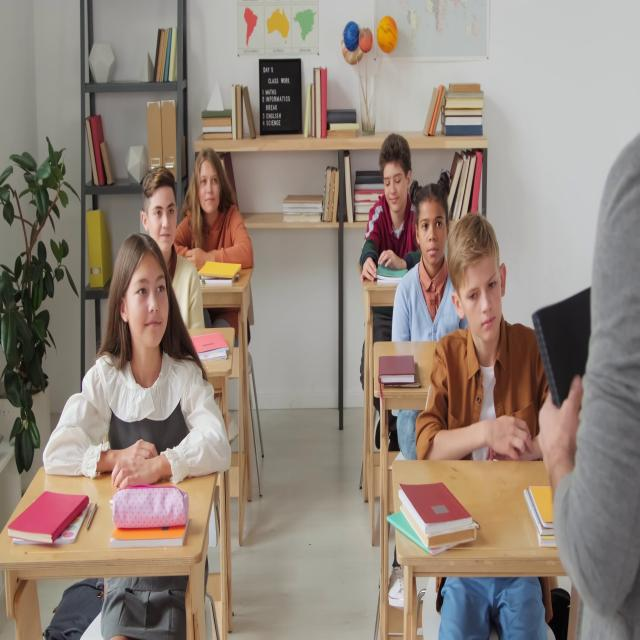listening: (413, 219, 555, 631), (44, 235, 233, 483), (174, 148, 253, 347), (391, 176, 466, 365), (141, 168, 206, 332)
reading: (359, 132, 420, 287)
